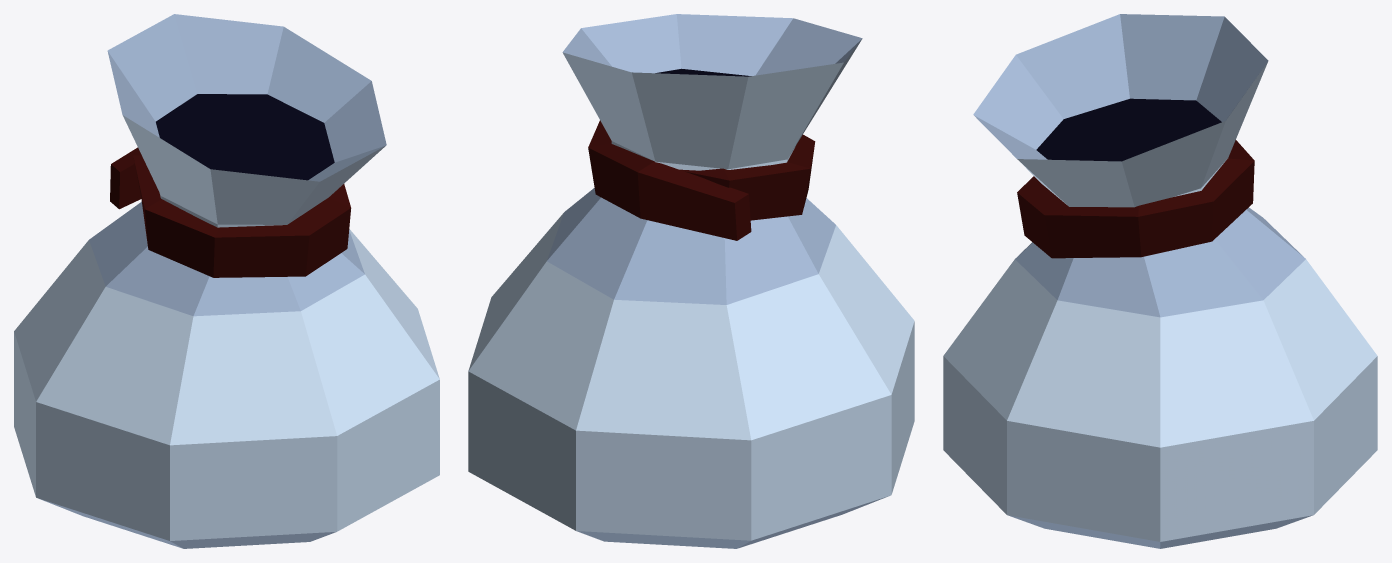
Rendered from bag.glb.
The picture shows the model from 3 angles, left to right: view 1: azimuth 30°, elevation 25°; view 2: azimuth 150°, elevation 25°; view 3: azimuth 270°, elevation 25°; orthographic projection. The views are drawn at different scales.
Parts seen in each view (by area): view 1: Cylinder; view 2: Cylinder; view 3: Cylinder.
Boxes of the visible parts, x1=… form: Cylinder: x1=14, y1=14, x2=439, y2=548; Cylinder: x1=468, y1=14, x2=914, y2=548; Cylinder: x1=943, y1=14, x2=1377, y2=548.
Bounding box in the file's own units: 2 × 2.14 × 2.
Materials: 1 (1 with a texture image).
